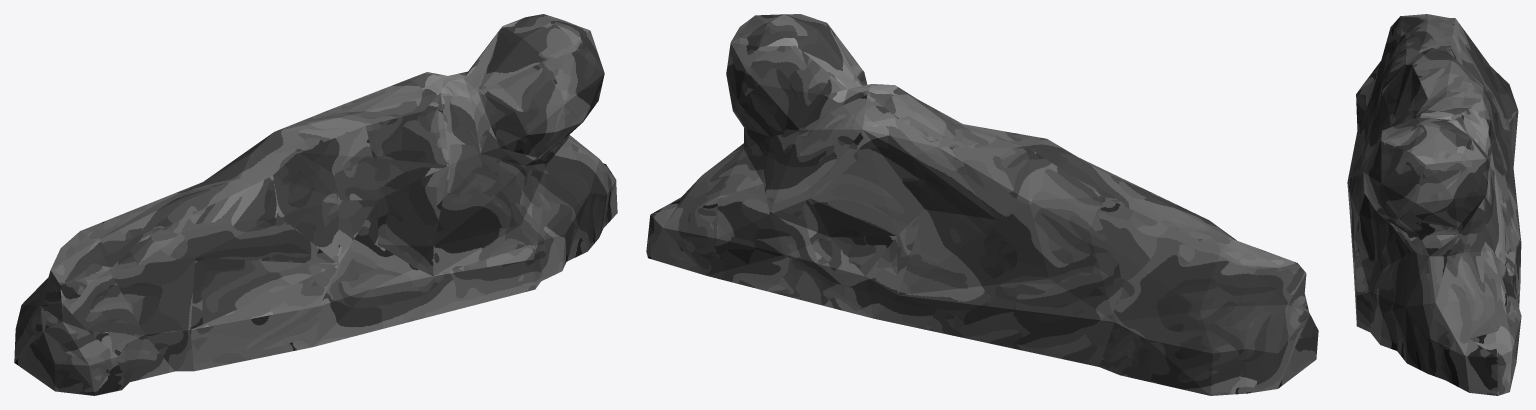
Rendered from VV-BuddhaStatue-4.fbx.
3 renders of one model, left to right at view 1: azimuth 30°, elevation 25°; view 2: azimuth 150°, elevation 25°; view 3: azimuth 270°, elevation 25°, orthographic. The views are drawn at different scales.
Visible parts, largest first — view 1: BuddhaStatue-4; view 2: BuddhaStatue-4; view 3: BuddhaStatue-4.
Part boxes in pixels (x1,y1,x2,y2): BuddhaStatue-4: (14, 14, 617, 395); BuddhaStatue-4: (646, 14, 1318, 395); BuddhaStatue-4: (1347, 14, 1521, 395).
Bounding box in the file's own units: 1.9 × 0.6849 × 0.4805.
